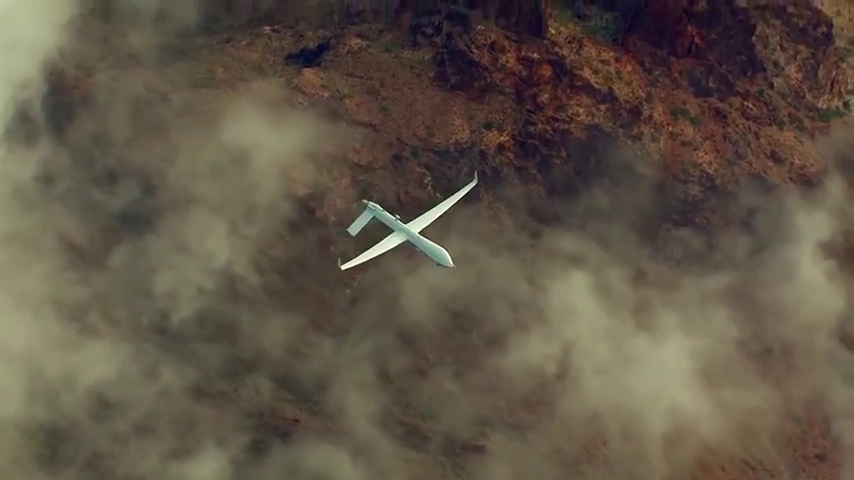military drone: (336, 169, 479, 267)
